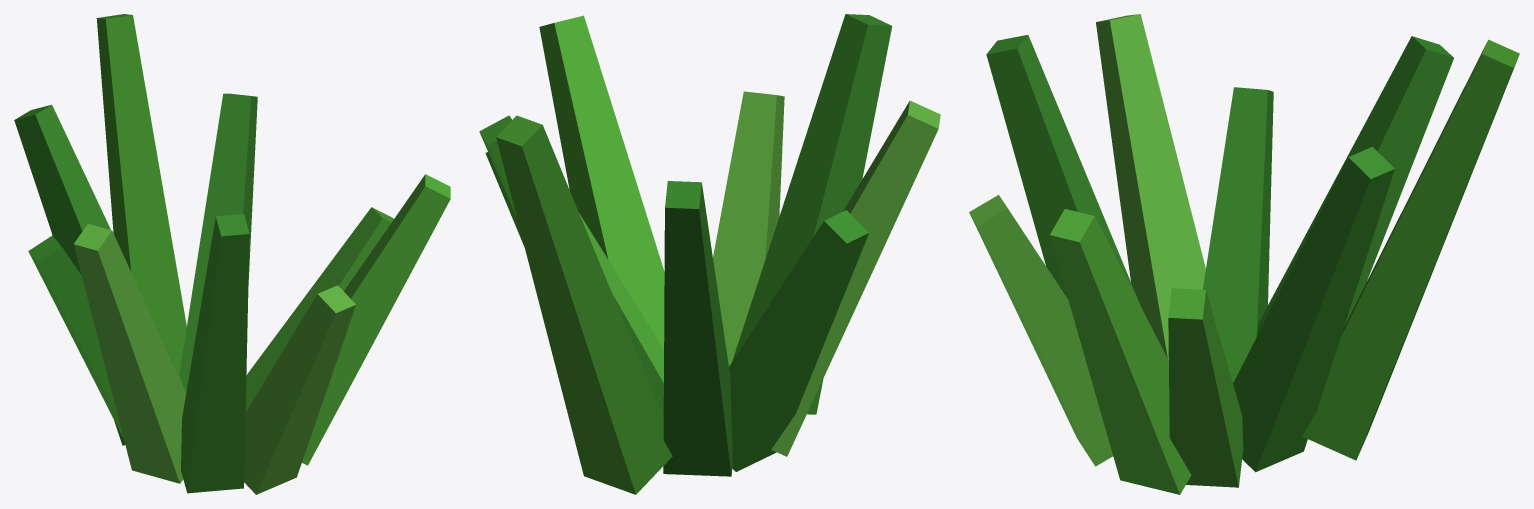
The model's file is grass_tuft.glb.
3 renders of one model, left to right at view 1: azimuth 30°, elevation 25°; view 2: azimuth 150°, elevation 25°; view 3: azimuth 270°, elevation 25°, orthographic. The views are drawn at different scales.
Visible parts, largest first — view 1: grass_tuft; view 2: grass_tuft; view 3: grass_tuft.
Part boxes in pixels (x1,y1,x2,y2): grass_tuft: [14, 14, 450, 494]; grass_tuft: [479, 14, 940, 494]; grass_tuft: [969, 14, 1519, 494].
Bounding box in the file's own units: 0.5348 × 0.4973 × 0.5976.
